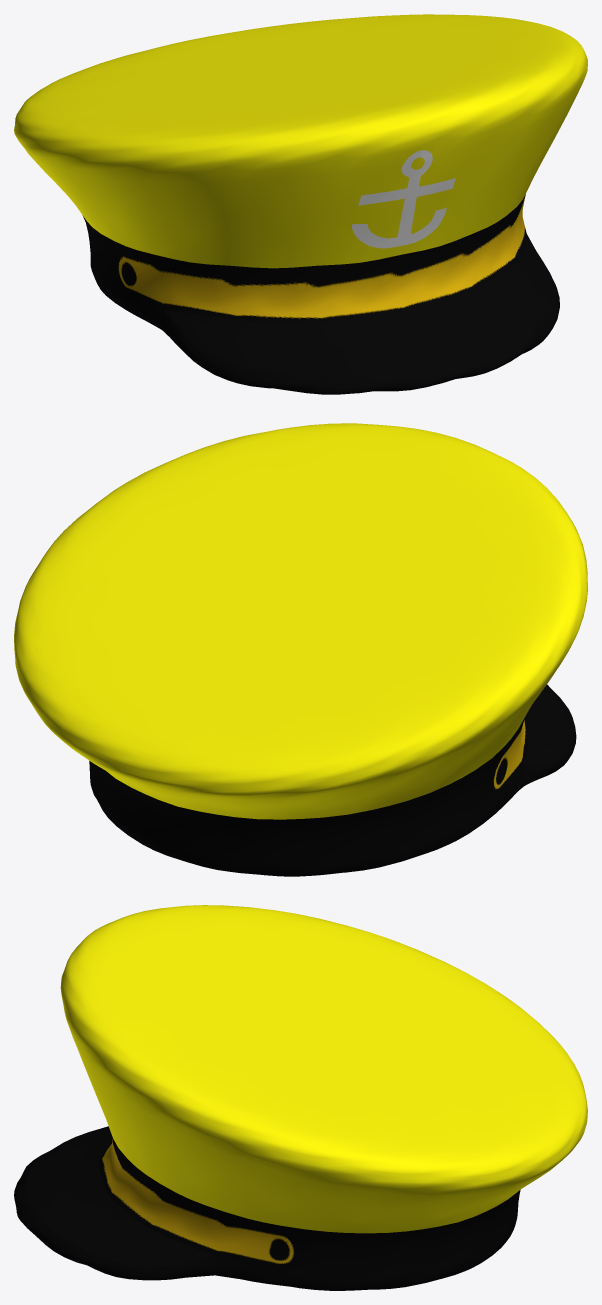
Rendered from SailorHat.fbx.
3 renders of one model, top to bottom at view 1: azimuth 30°, elevation 25°; view 2: azimuth 150°, elevation 25°; view 3: azimuth 270°, elevation 25°, orthographic. The views are drawn at different scales.
Visible parts, largest first — view 1: SailorHat; view 2: SailorHat; view 3: SailorHat.
Part boxes in pixels (left/top/right/bottom): SailorHat: left=14, top=14, right=587, bottom=394; SailorHat: left=14, top=423, right=587, bottom=876; SailorHat: left=14, top=905, right=587, bottom=1290.
Bounding box in the file's own units: 514 × 258 × 541.
Materials: 3 (1 with a texture image).
